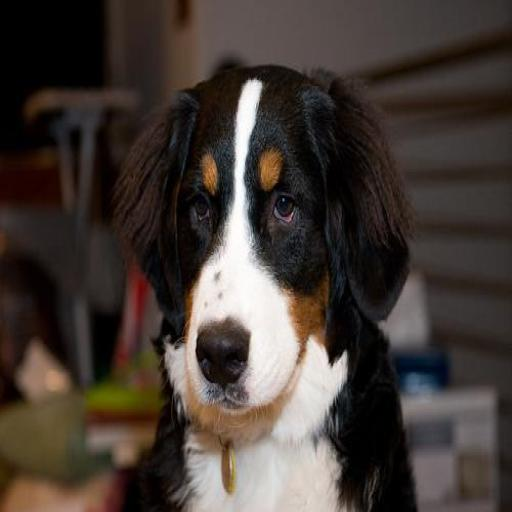dog_face: (112, 72, 395, 434)
